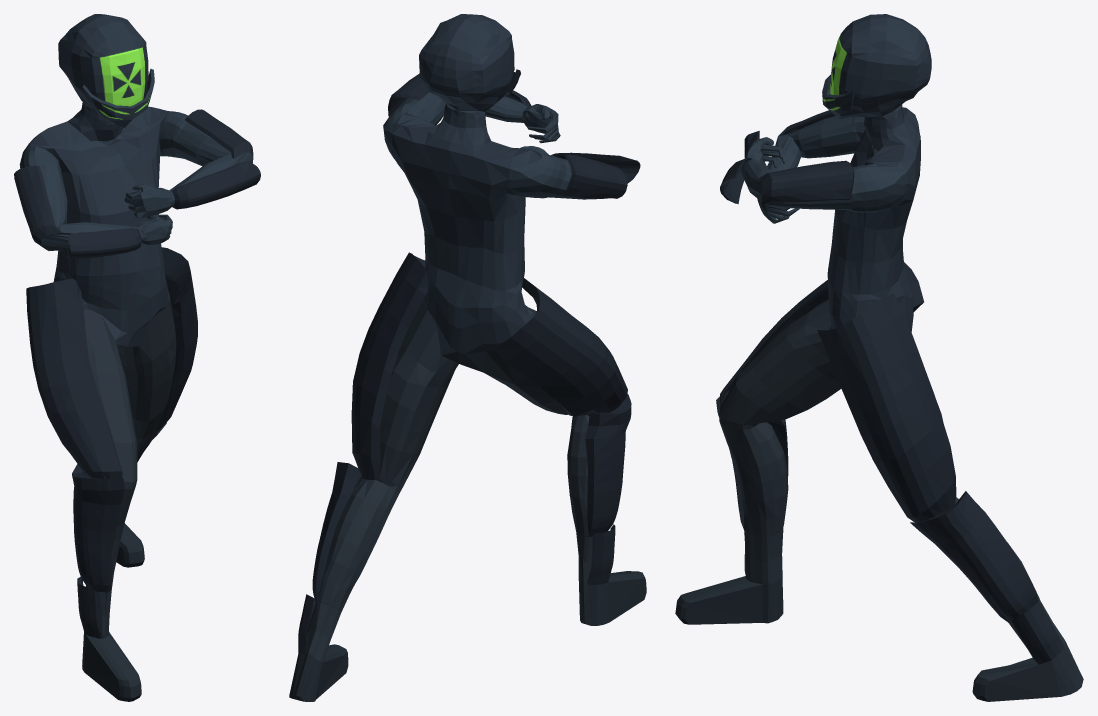
File: Bastion_Hit_000001.obj
3 renders of one model, left to right at view 1: azimuth 30°, elevation 25°; view 2: azimuth 150°, elevation 25°; view 3: azimuth 270°, elevation 25°, orthographic. The views are drawn at different scales.
Visible parts, largest first — view 1: Cube.002; view 2: Cube.002; view 3: Cube.002.
Boxes of the visible parts, box(x1,y1,x2,y2) form: Cube.002: box(14, 14, 260, 701); Cube.002: box(289, 14, 646, 701); Cube.002: box(675, 14, 1083, 701).
Size of the model in its own units: 1.31 by 3.61 by 2.08.
